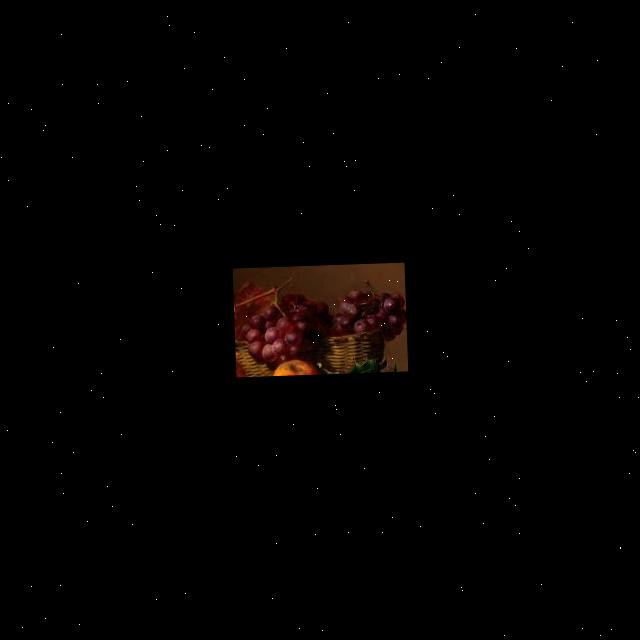grape: (244, 297, 324, 360)
